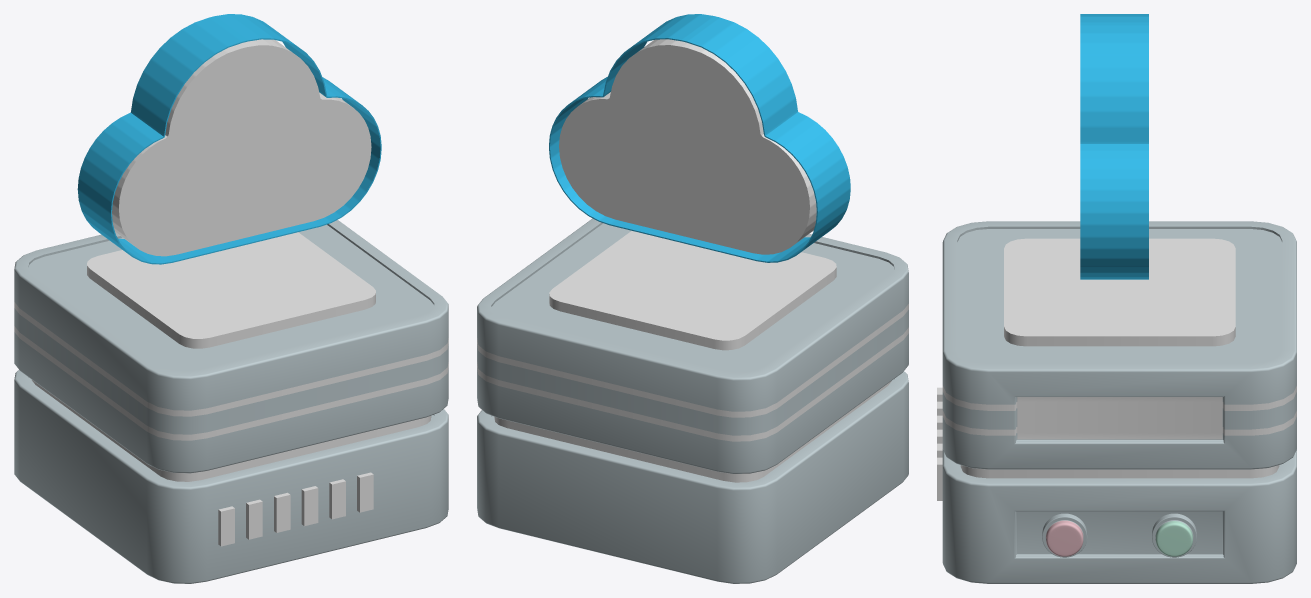
Rendered from cloud.fbx.
The picture shows the model from 3 angles, left to right: view 1: azimuth 30°, elevation 25°; view 2: azimuth 150°, elevation 25°; view 3: azimuth 270°, elevation 25°; orthographic projection. The views are drawn at different scales.
Visible parts, largest first — view 1: 立方体.002, 立方体, Layer_001, 立方体.004, Layer_001.001, 立方体.001; view 2: 立方体.002, 立方体, Layer_001, 立方体.004, Layer_001.001; view 3: 立方体.002, 立方体, 立方体.004, Layer_001.001, 柱体, 柱体.001, 立方体.001.
Boxes of the visible parts, <box> form: 立方体.002: <box>14,220,448,481</box>; 立方体: <box>14,370,448,583</box>; Layer_001: <box>112,39,371,256</box>; 立方体.004: <box>87,232,375,348</box>; Layer_001.001: <box>77,14,381,264</box>; 立方体.001: <box>218,472,373,546</box>; 立方体.002: <box>477,218,908,482</box>; 立方体: <box>477,371,908,583</box>; Layer_001: <box>559,39,816,254</box>; 立方体.004: <box>549,231,836,350</box>; Layer_001.001: <box>549,14,850,262</box>; 立方体.002: <box>942,221,1296,478</box>; 立方体: <box>942,449,1296,583</box>; 立方体.004: <box>1004,238,1235,346</box>; Layer_001.001: <box>1080,14,1148,279</box>; 柱体: <box>1042,513,1087,557</box>; 柱体.001: <box>1152,513,1196,557</box>; 立方体.001: <box>937,387,942,500</box>.
Size of what is drawn, in the model's own units: 39.04 by 38.4 by 56.91.
